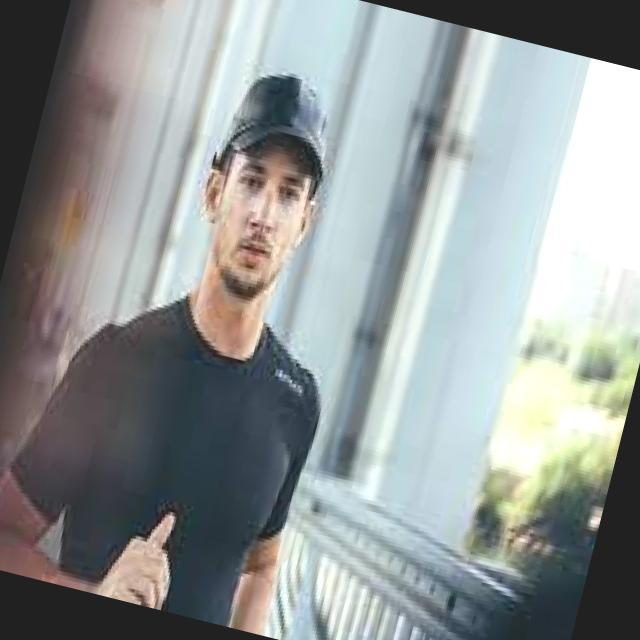cap: (194, 43, 372, 222)
